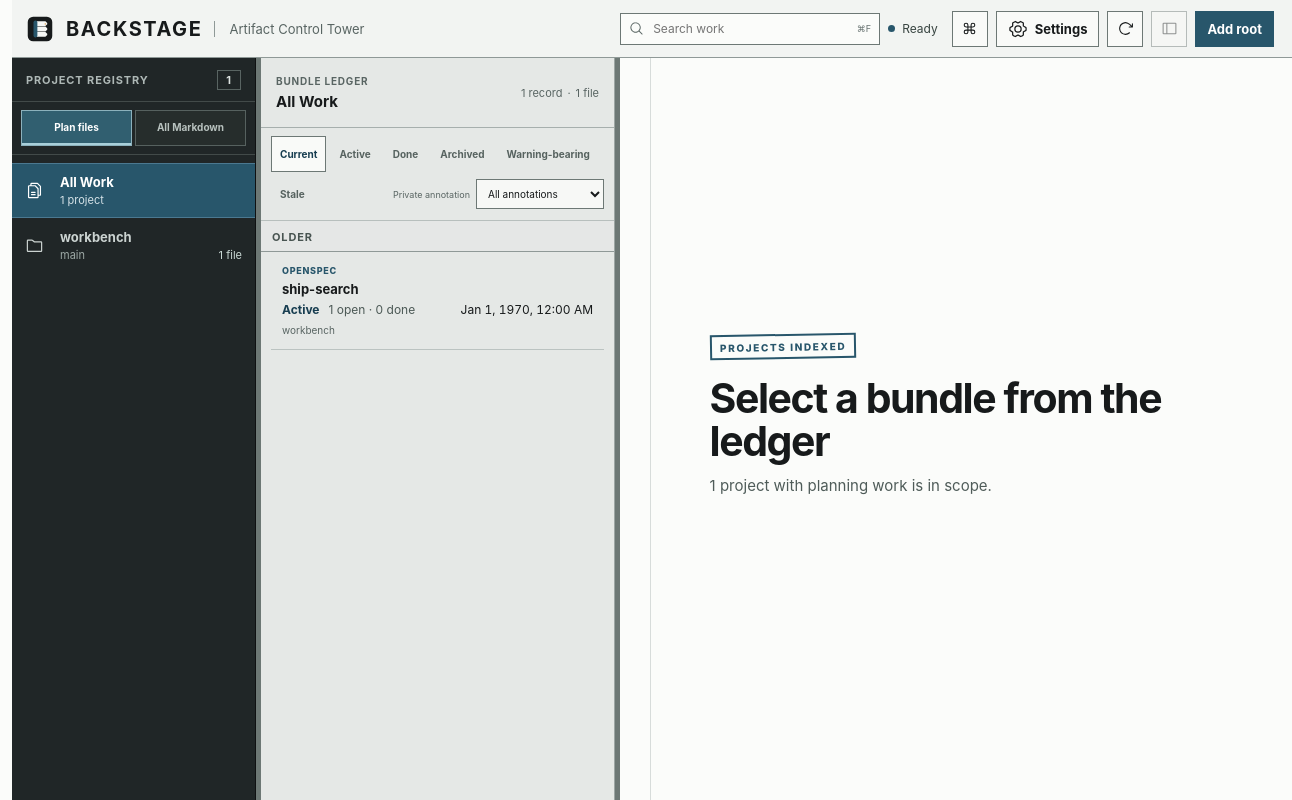
Test: App root discovery › copies the selected ordinary Markdown path and reports success
What coordinates should you click on to do the following:
click the button "All Markdown"
I would click on:
 (190, 128)
Its box is x1=135 y1=110 x2=246 y2=146.
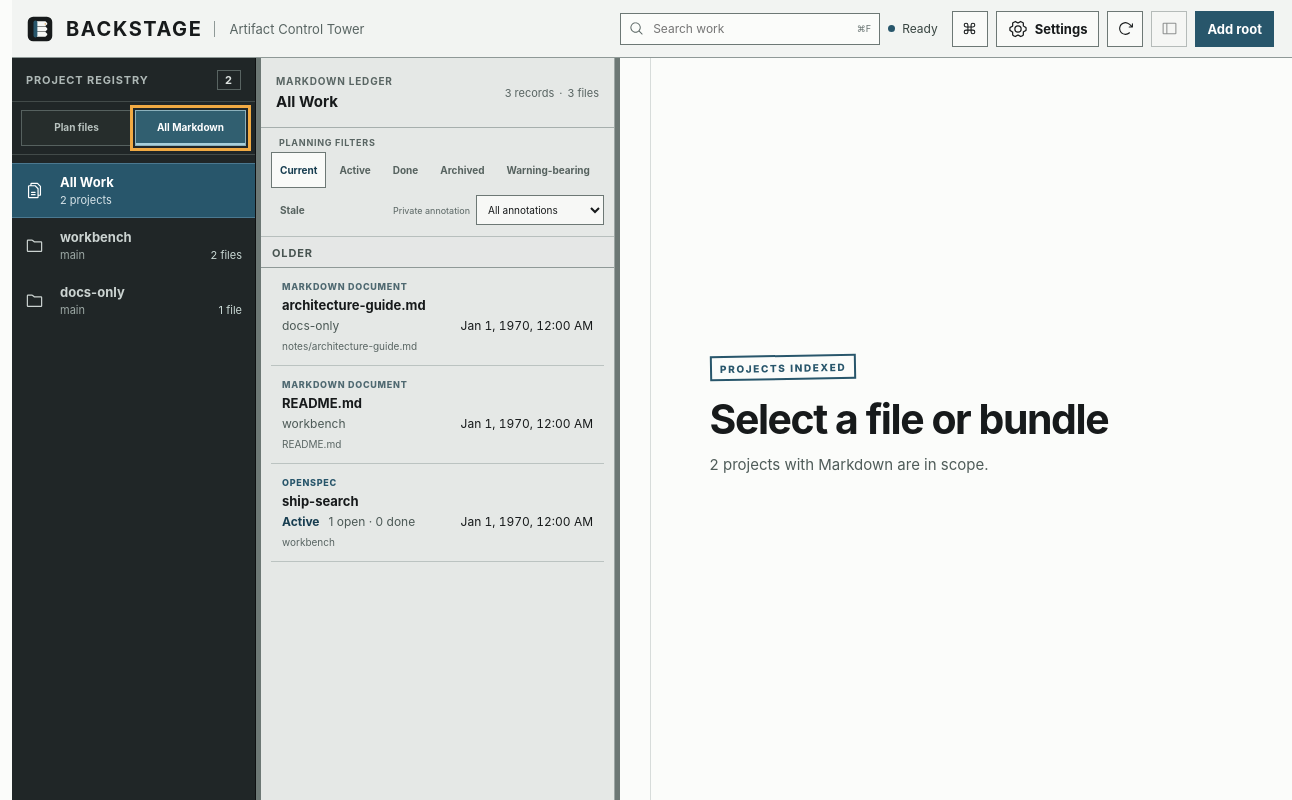
What coordinates should you click on to do the following:
click the button "README.md"
I would click on:
 (345, 384)
Its box is x1=271 y1=366 x2=604 y2=464.
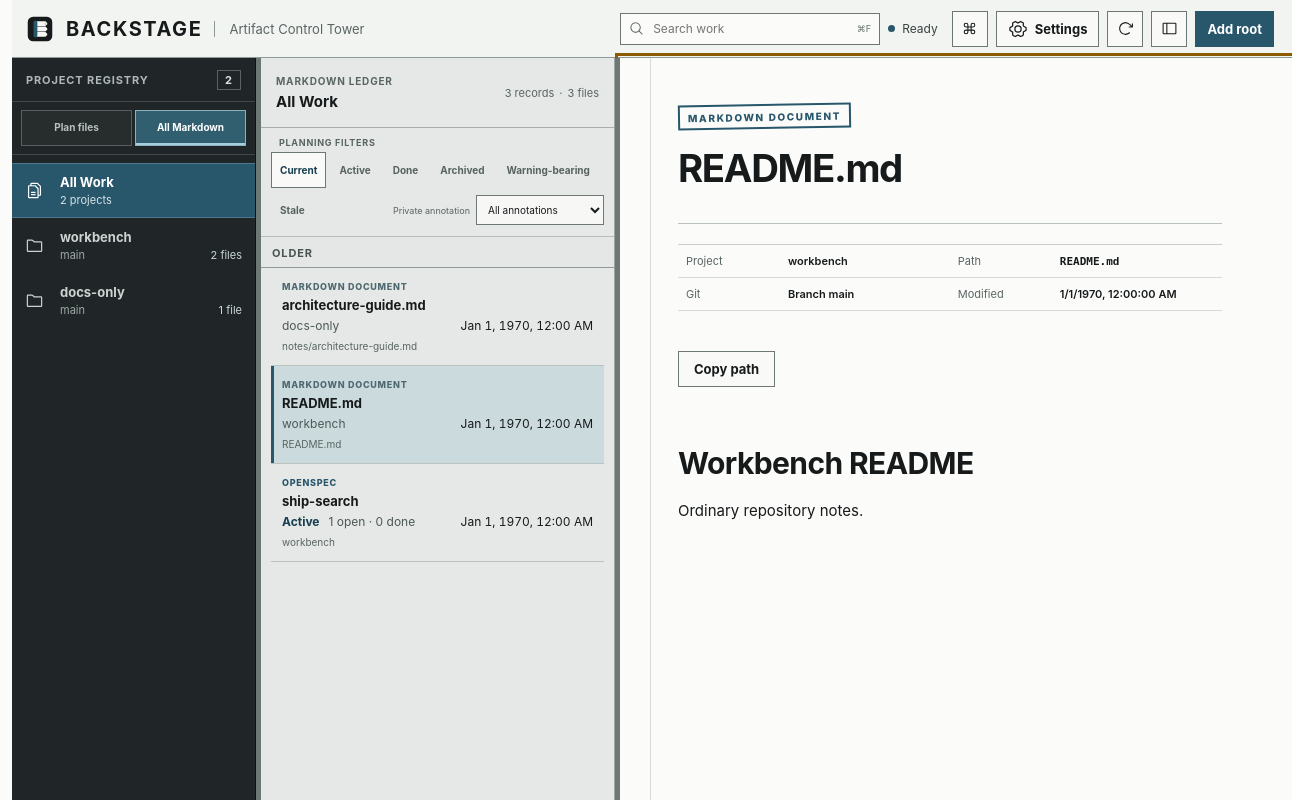
What coordinates should you click on to do the following:
click the button "Copy path"
I would click on:
 (727, 369)
Its box is x1=678 y1=351 x2=775 y2=387.
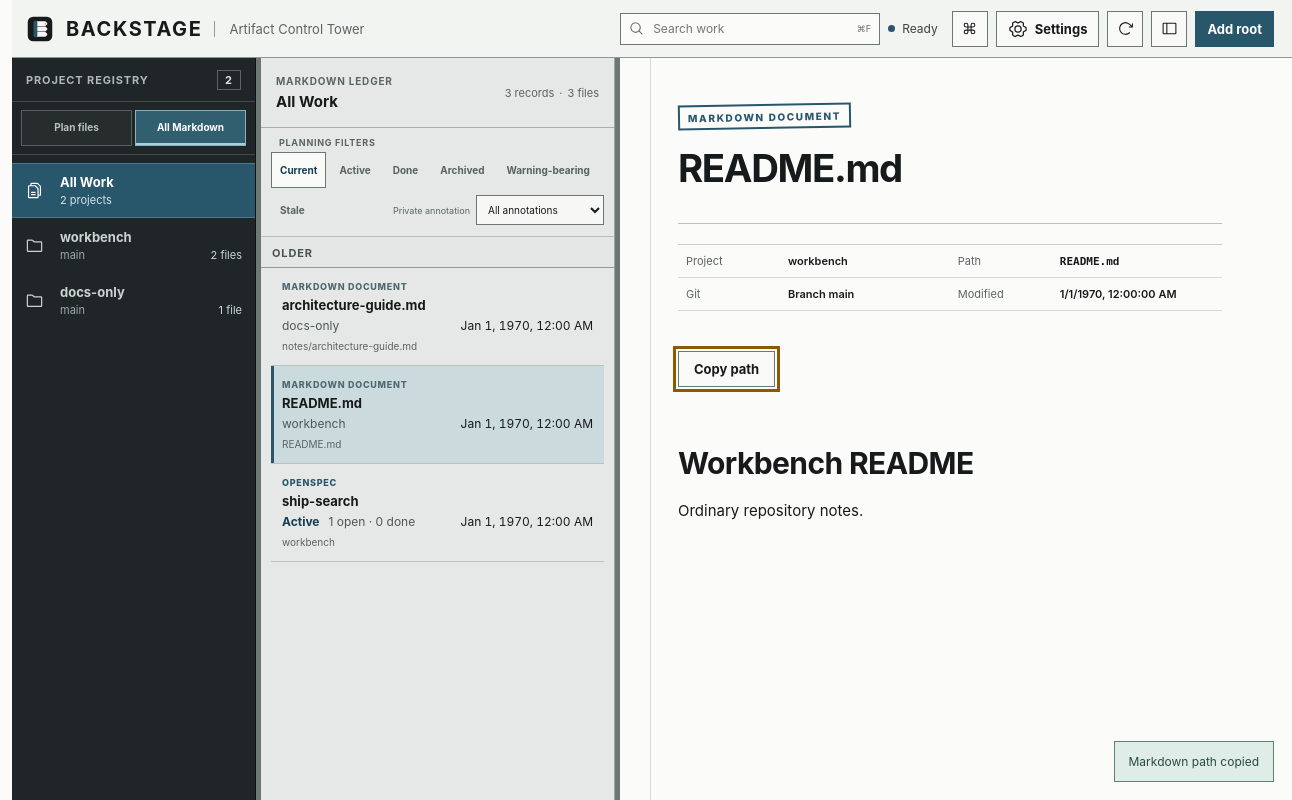
Check: the message reads "Markdown path copied", box x1=1128 y1=754 x2=1259 y2=769
